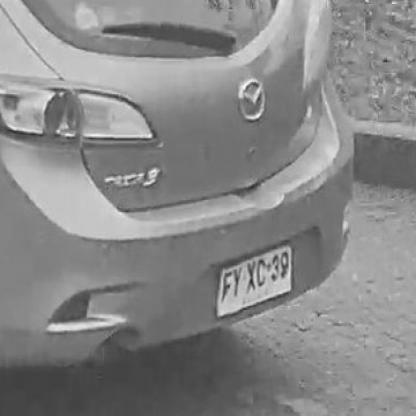Patente: (215, 243, 296, 318)
